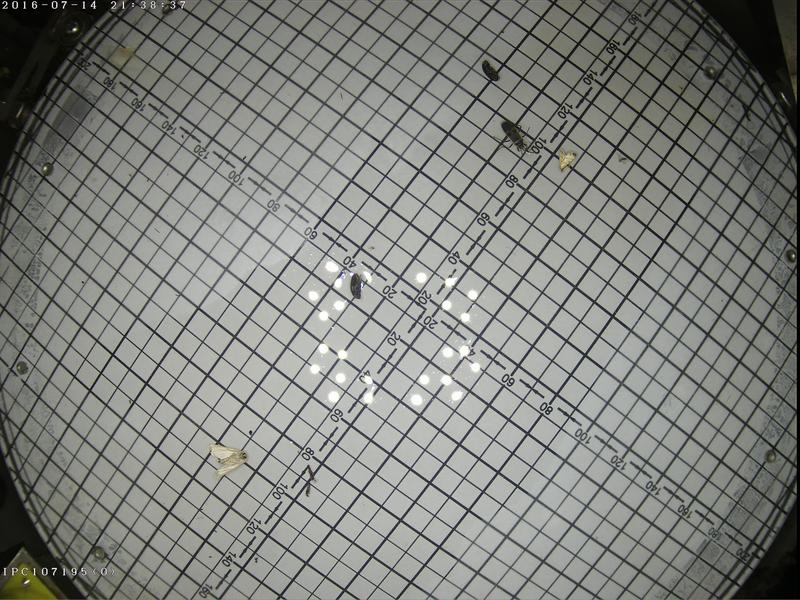Rice Leaf Roller: (557, 148, 575, 169)
